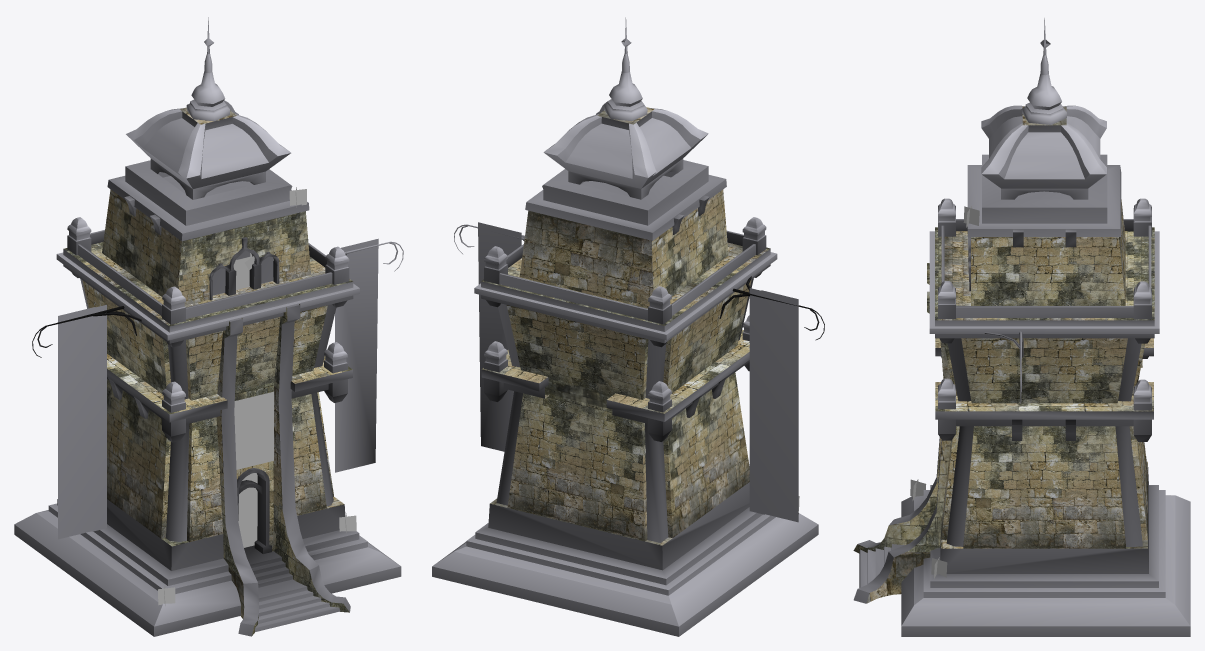
File: Tower.FBX
3 views of the same model, side by side, from view 1: azimuth 30°, elevation 25°; view 2: azimuth 150°, elevation 25°; view 3: azimuth 270°, elevation 25° (orthographic). The views are drawn at different scales.
Visible parts, largest first — view 1: Tower; view 2: Tower; view 3: Tower.
Boxes of the visible parts, left/top/right/bottom form: Tower: left=14, top=17, right=403, bottom=636; Tower: left=432, top=17, right=824, bottom=636; Tower: left=853, top=18, right=1190, bottom=636.
Size of the model in its own units: 90.78 by 127 by 68.98.
